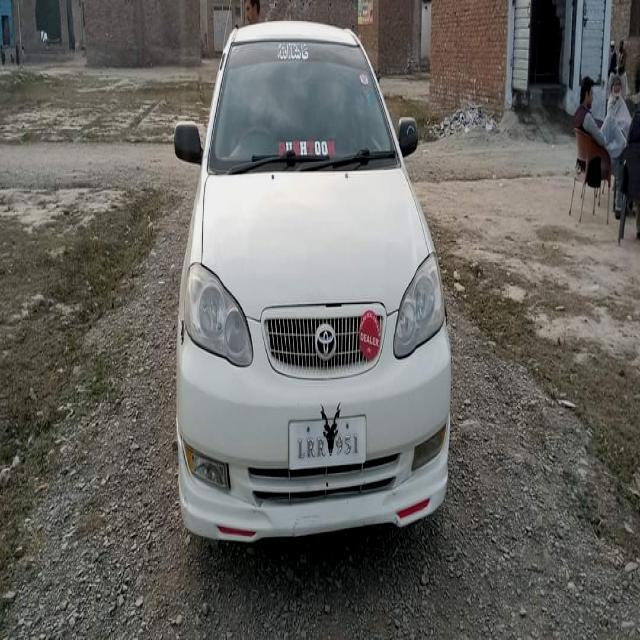white: (177, 15, 490, 538)
